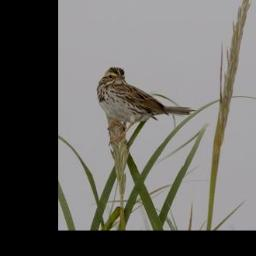Sparrow: (96, 65, 199, 146)
